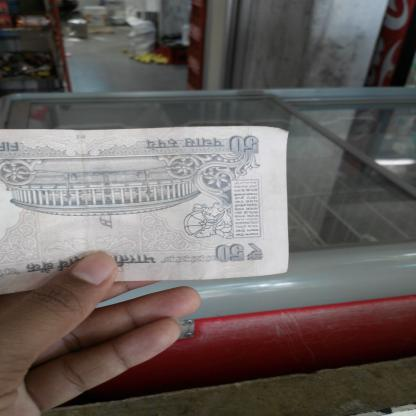Old50Back: (0, 126, 290, 295)
